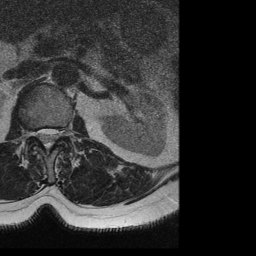CCS_normal: (44, 121, 50, 159)
LFS_normal: (58, 120, 66, 143)
LLS_normal: (50, 122, 58, 149)
RFS_stenosis: (28, 122, 36, 145)
RLS_normal: (36, 123, 44, 147)
